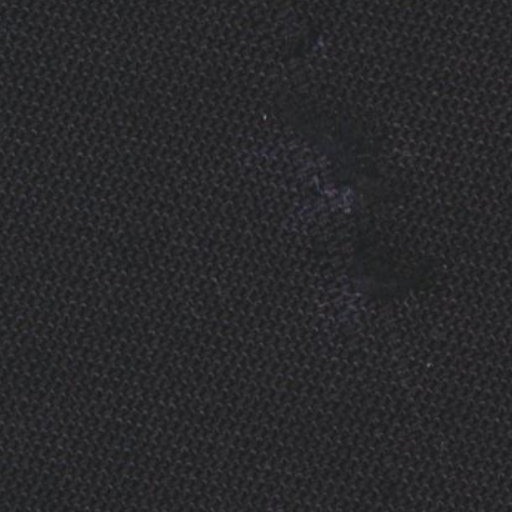DaiSha: (296, 83, 449, 304)
